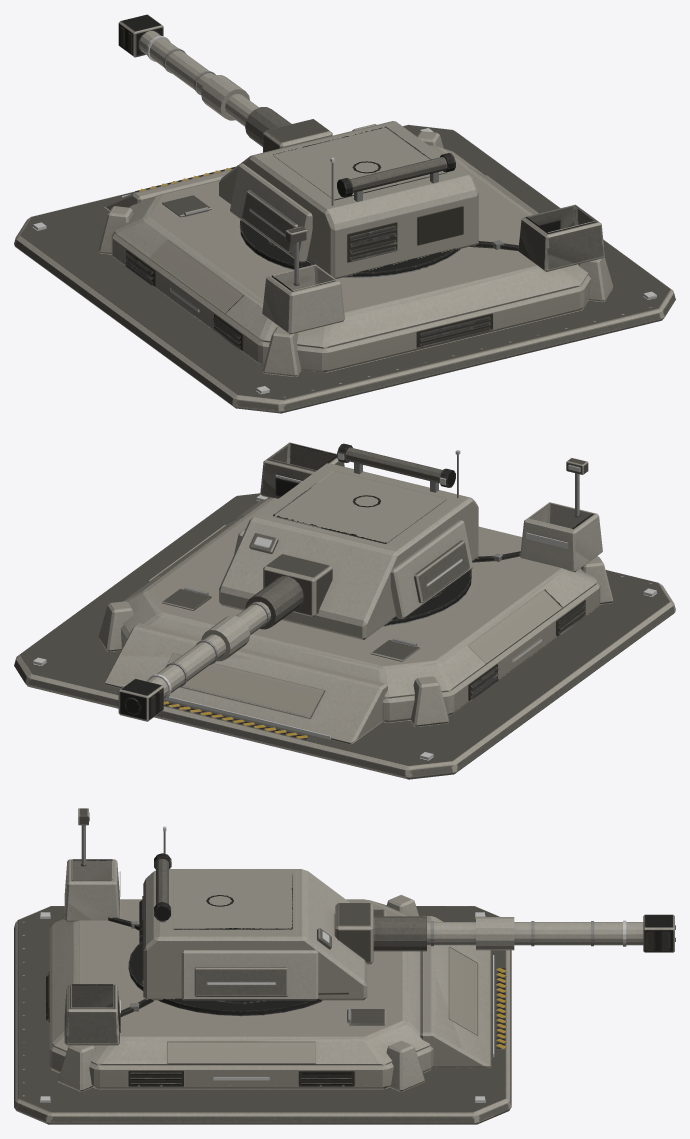
The model's file is ord_edict.fbx.
3 views of the same model, one above another, from view 1: azimuth 30°, elevation 25°; view 2: azimuth 150°, elevation 25°; view 3: azimuth 270°, elevation 25° (orthographic). The views are drawn at different scales.
Visible parts, largest first — view 1: base_bar, turret_bar; view 2: base_bar, turret_bar, base_glow_running_bar; view 3: base_bar, turret_bar, base_glow_running_bar.
Boxes of the visible parts, x1,y1,x2,y2 form: base_bar: [14, 124, 675, 413]; turret_bar: [118, 14, 478, 278]; base_bar: [14, 442, 675, 779]; turret_bar: [118, 443, 478, 721]; base_glow_running_bar: [33, 465, 656, 759]; base_bar: [14, 808, 511, 1124]; turret_bar: [139, 831, 675, 1000]; base_glow_running_bar: [40, 812, 494, 1102].
Bounding box in the file's own units: 2335 × 1046 × 3106.
Materials: 2 (2 with a texture image).
